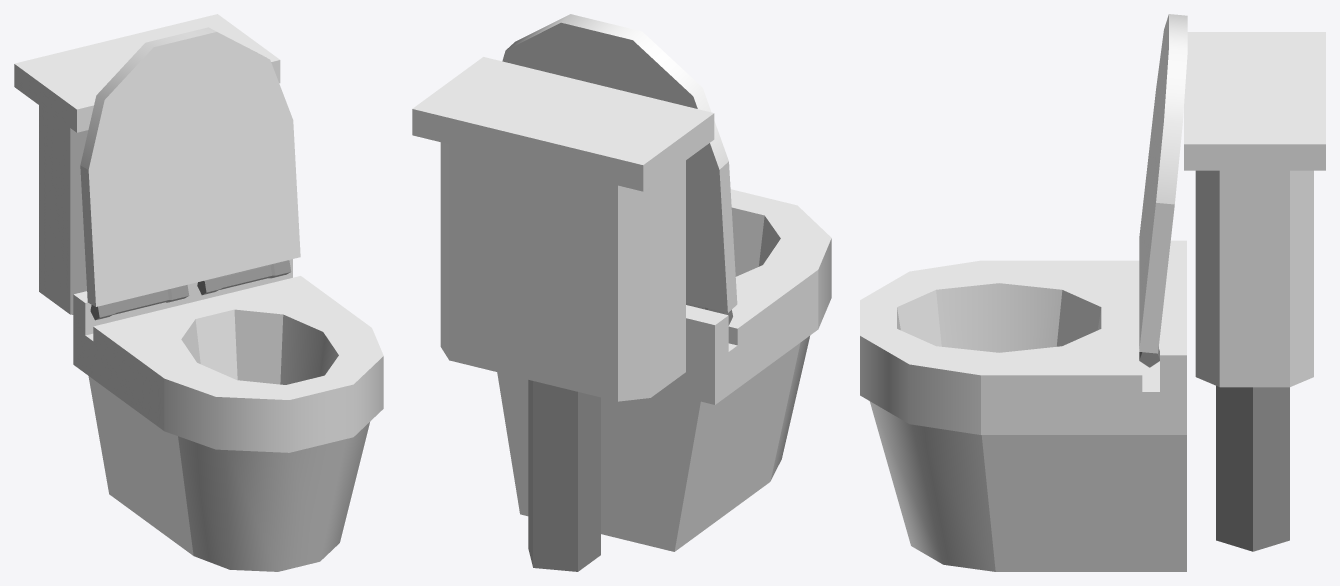
Rendered from Toilet.fbx.
3 views of the same model, side by side, from view 1: azimuth 30°, elevation 25°; view 2: azimuth 150°, elevation 25°; view 3: azimuth 270°, elevation 25° (orthographic). The views are drawn at different scales.
Parts seen in each view (by area): view 1: Toilet2; view 2: Toilet2; view 3: Toilet2.
Boxes of the visible parts, x1,y1,x2,y2 form: Toilet2: [14, 14, 383, 571]; Toilet2: [412, 14, 831, 571]; Toilet2: [860, 14, 1325, 571].
Bounding box in the file's own units: 39.2 × 80.07 × 67.23.
